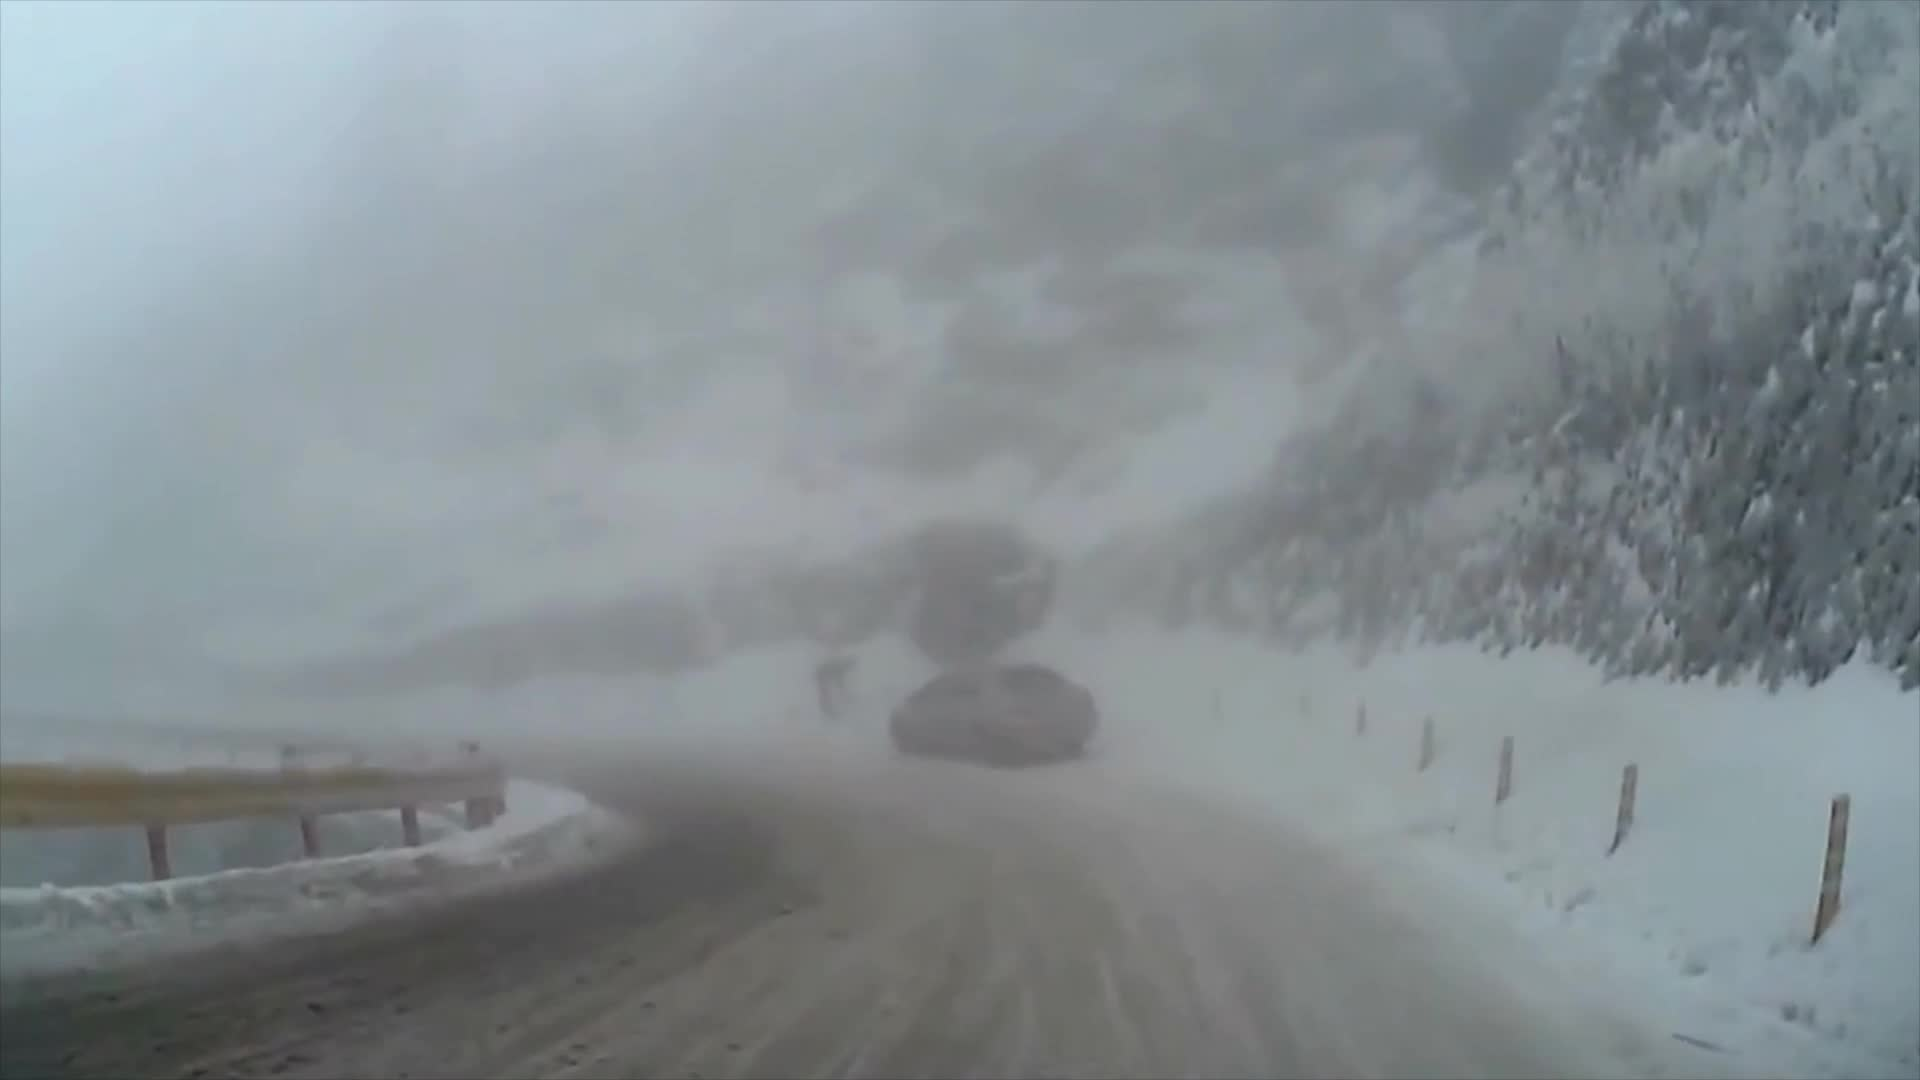pedestrian: (811, 655, 859, 724)
vehicle: (888, 663, 1095, 766)
